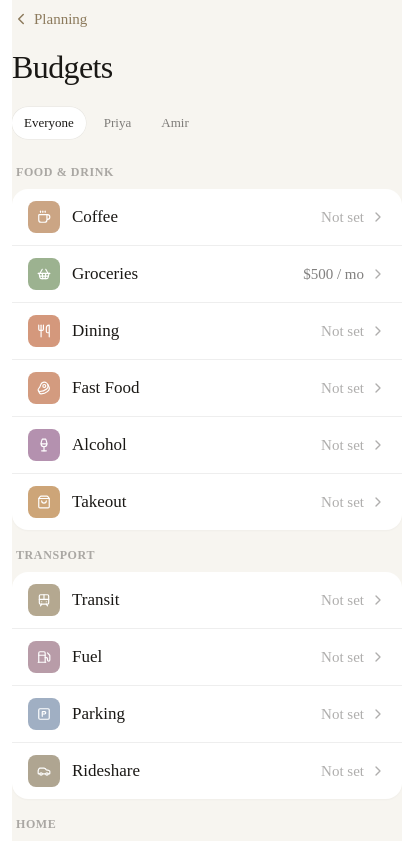
Budgets page — whose budgets › shows another person none of it
Click the tab "Amir": (175, 123) [149, 107, 201, 139]
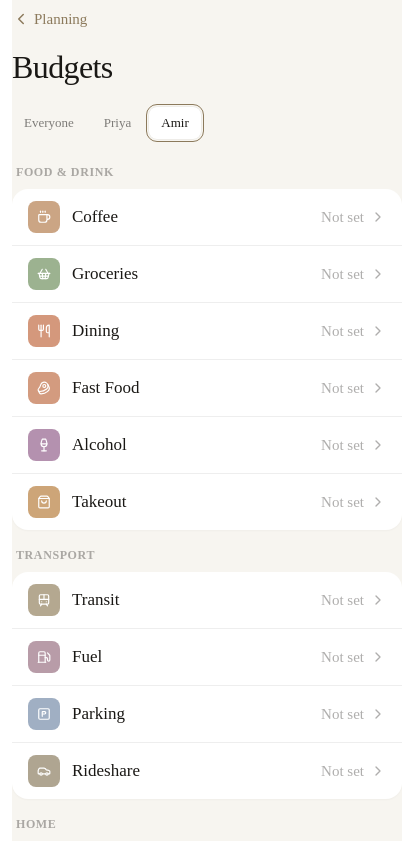
Expected: the 3rd text "Not set" is shown, [321, 320, 364, 342]
Expected: the 2nd text "Not set" is shown, [321, 262, 364, 285]
